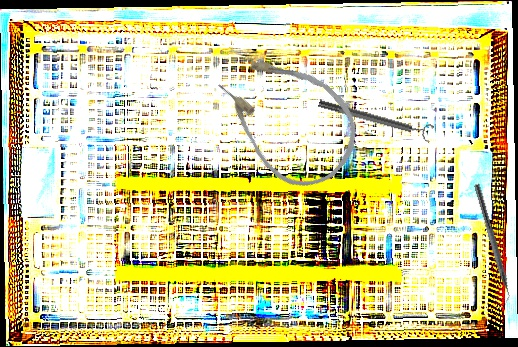Cannula: (200, 30, 376, 205)
Chopper: (465, 183, 517, 310)
Fixation Ring: (316, 93, 435, 144)
